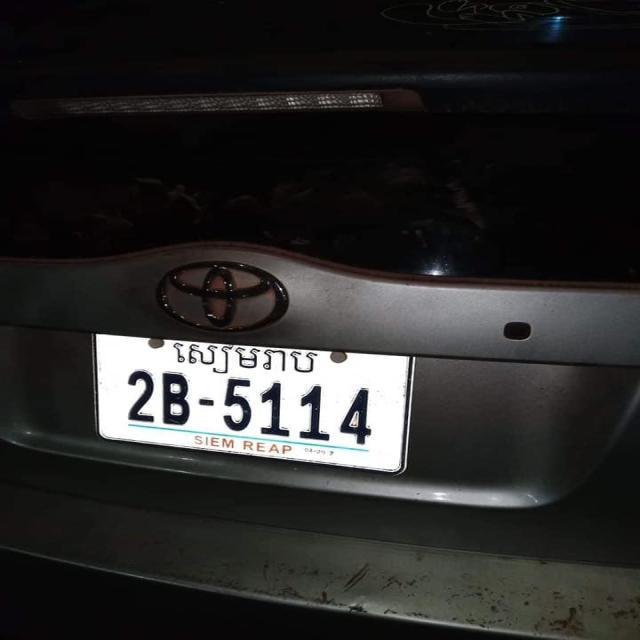Siem_Reap: (172, 342, 318, 374)
